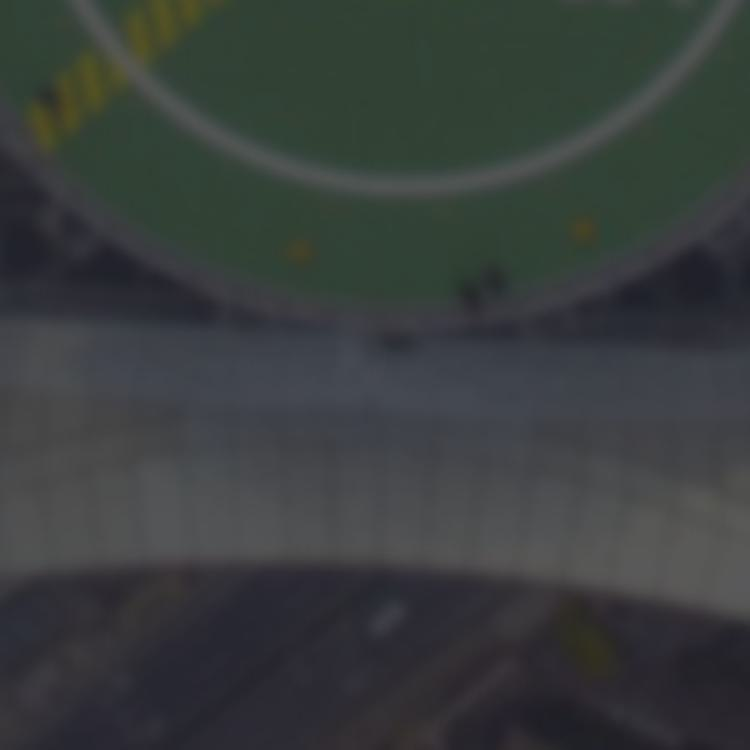Apron: (69, 3, 740, 197)
